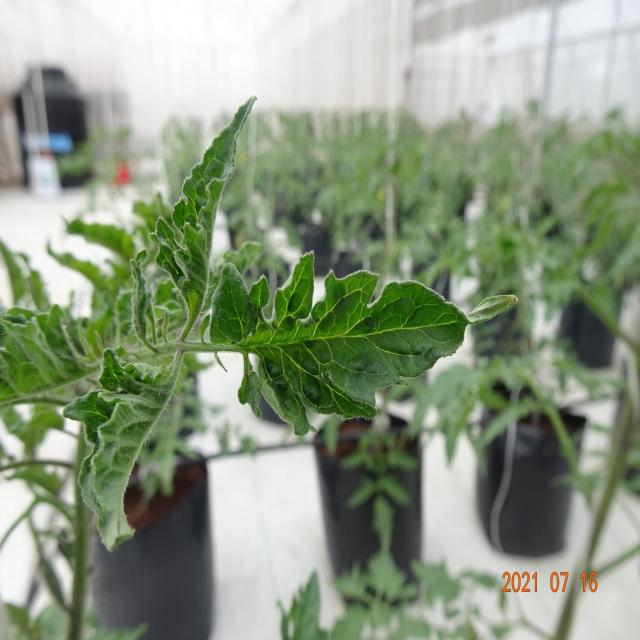T_L_R: (210, 254, 470, 435), (151, 97, 256, 342), (63, 349, 184, 552)
